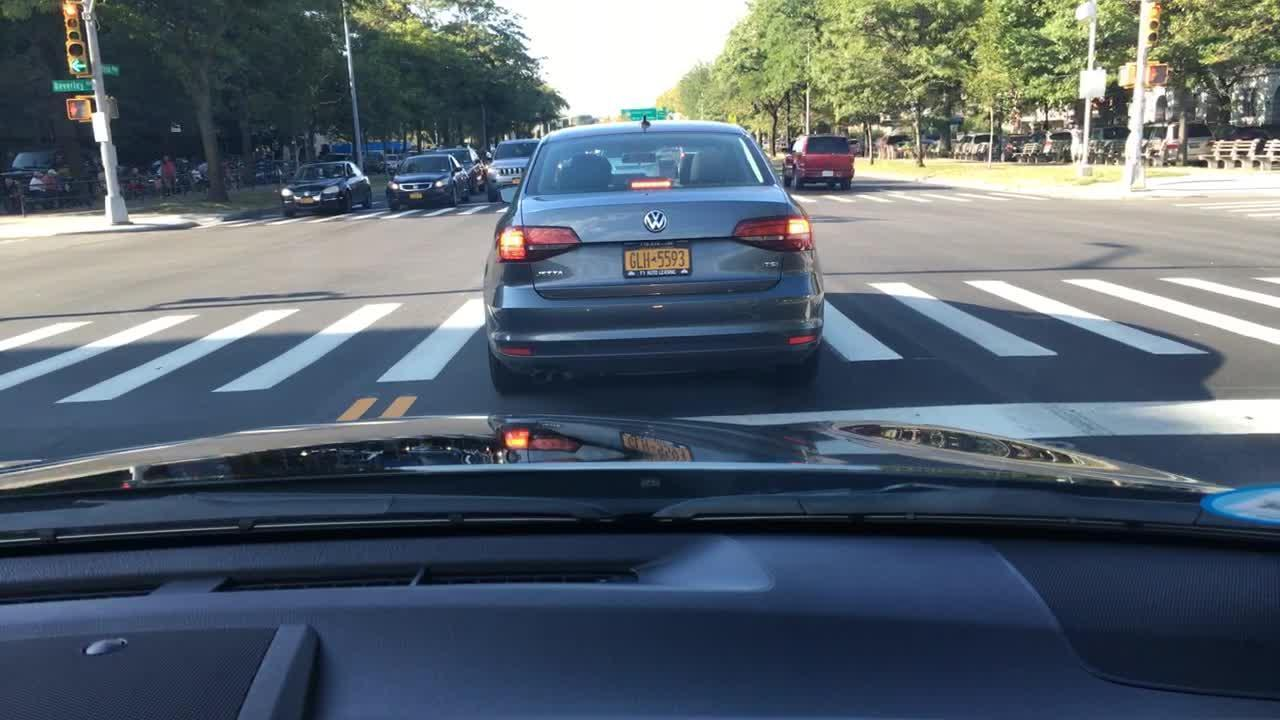Volkswagen: (639, 208, 673, 241)
